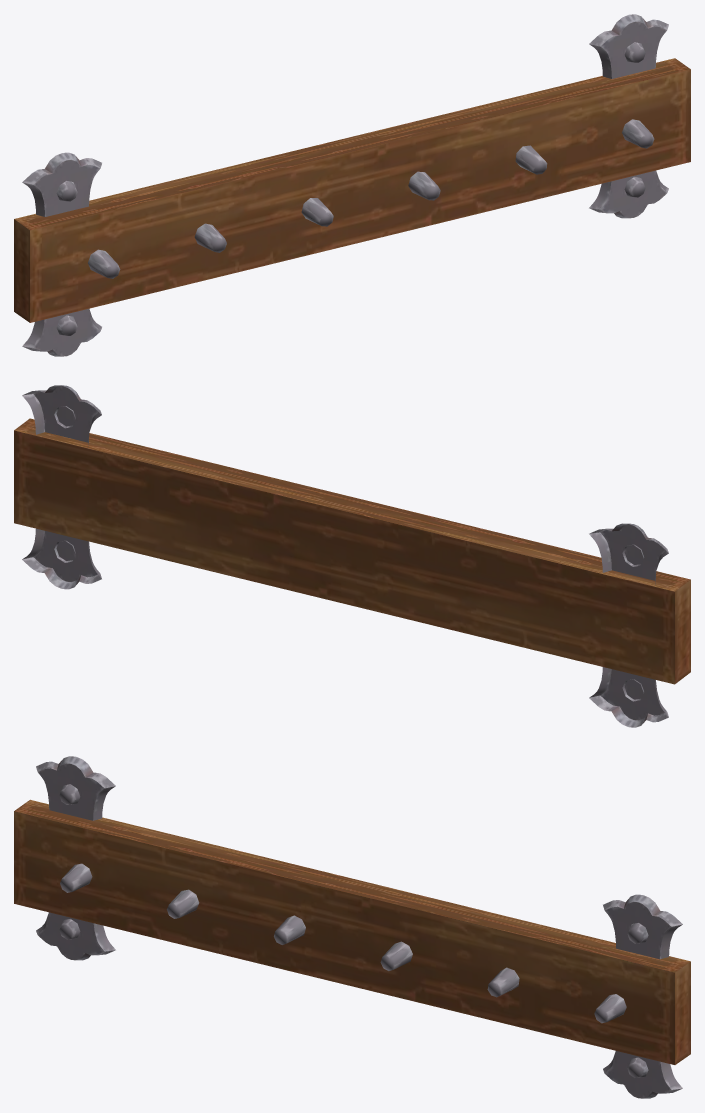
Rendered from peg_rack.glb.
3 views of the same model, one above another, from view 1: azimuth 30°, elevation 25°; view 2: azimuth 150°, elevation 25°; view 3: azimuth 330°, elevation 25° (orthographic).
Visible parts, largest first — view 1: Peg_Rack; view 2: Peg_Rack; view 3: Peg_Rack.
Boxes of the visible parts, bbox=[...] form: Peg_Rack: bbox=[14, 14, 690, 356]; Peg_Rack: bbox=[14, 385, 690, 727]; Peg_Rack: bbox=[14, 756, 690, 1098].
Size of the model in its own units: 1.18 by 0.3479 by 0.0957.
Materials: 2 (2 with a texture image).
